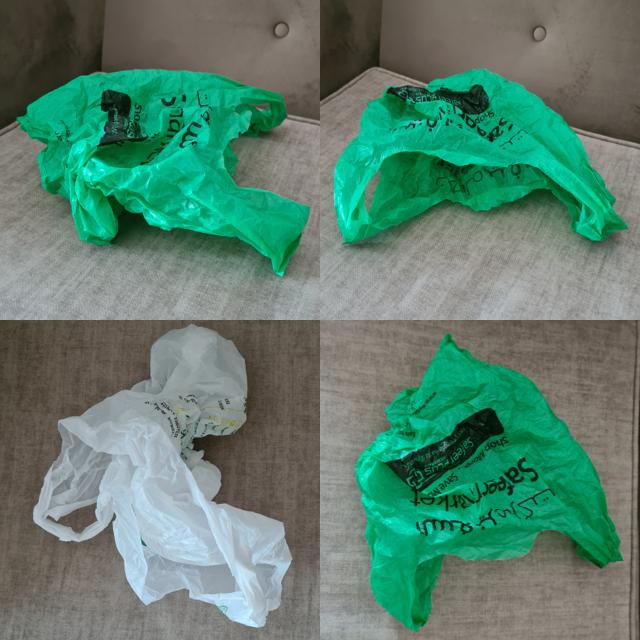Single-layer Plastic: (356, 335, 621, 631), (34, 325, 291, 628), (19, 70, 309, 275), (334, 69, 626, 242)
